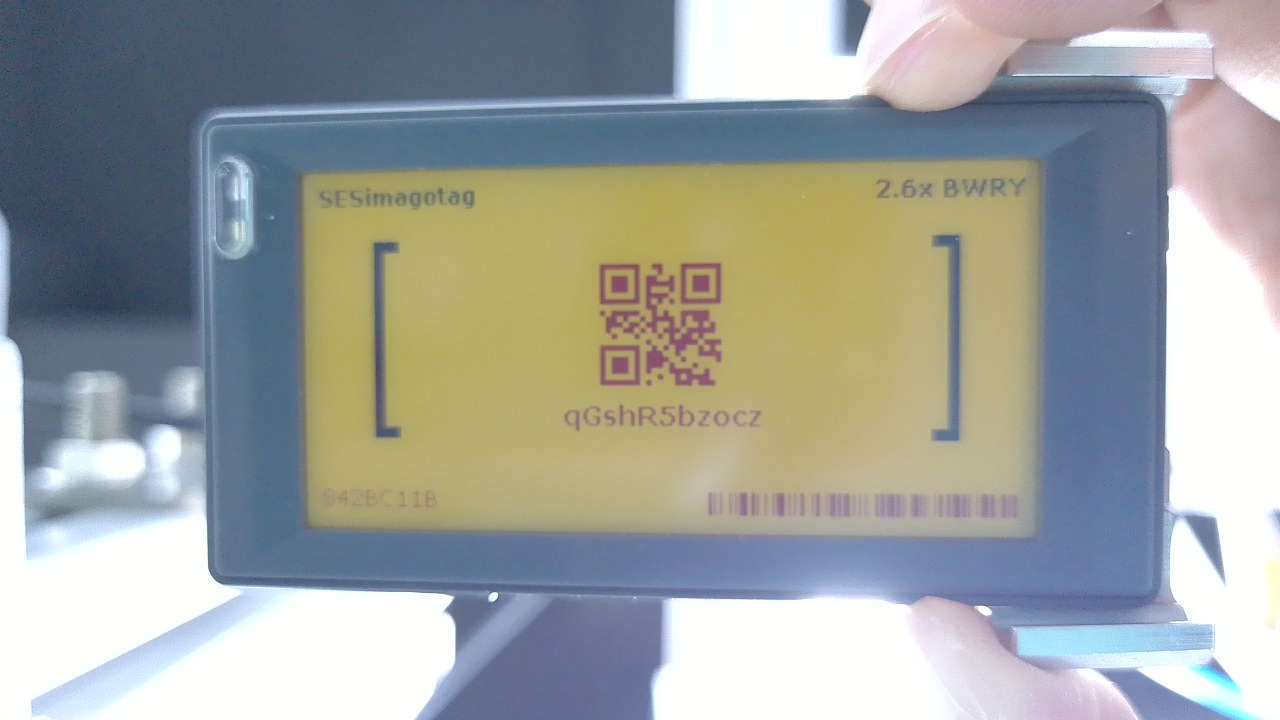flaw: (297, 157, 1046, 538)
